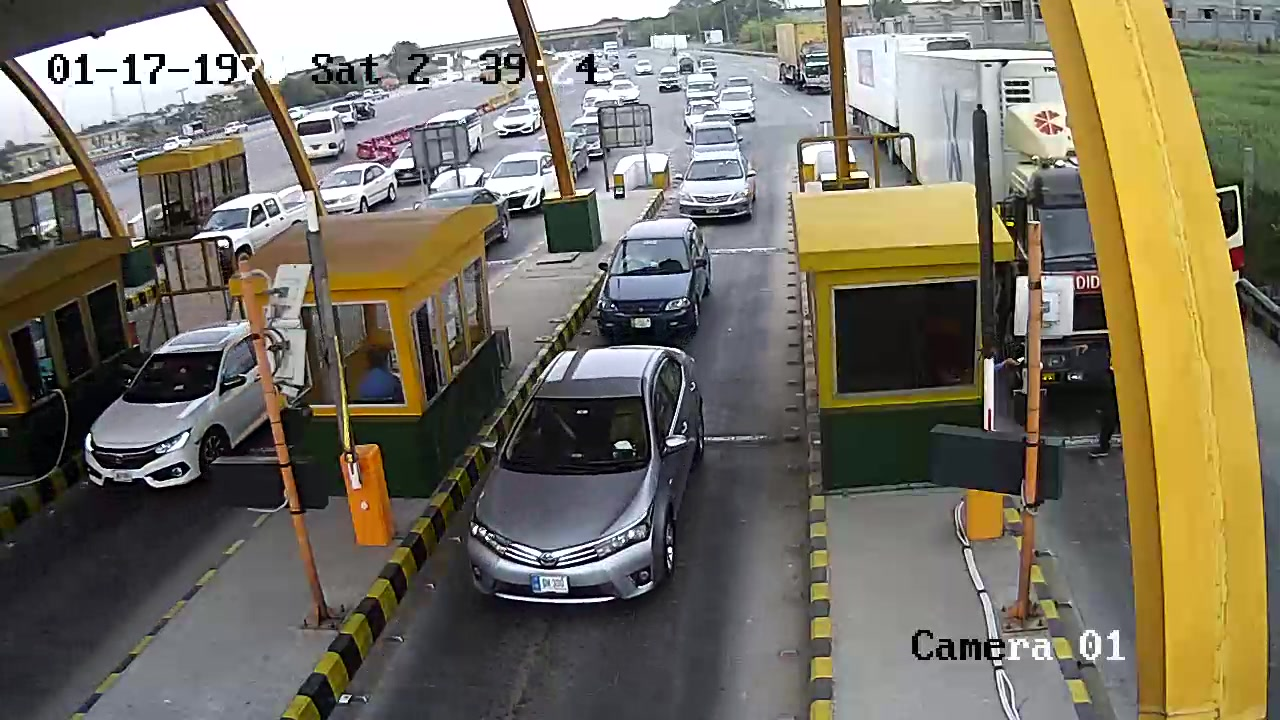F1: (463, 344, 739, 610)
